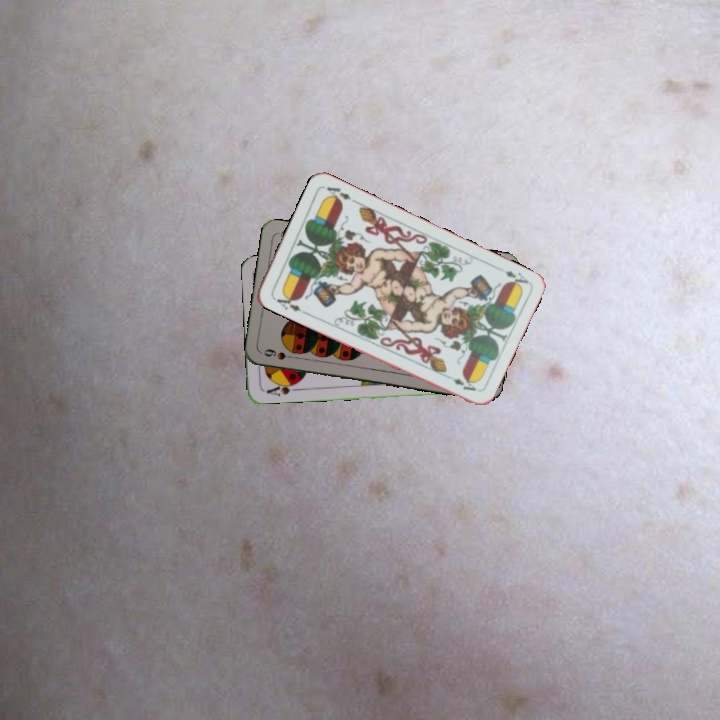EA: (269, 289, 308, 316), (501, 266, 531, 290)
S9: (260, 345, 299, 362)
SA: (262, 378, 302, 398)
